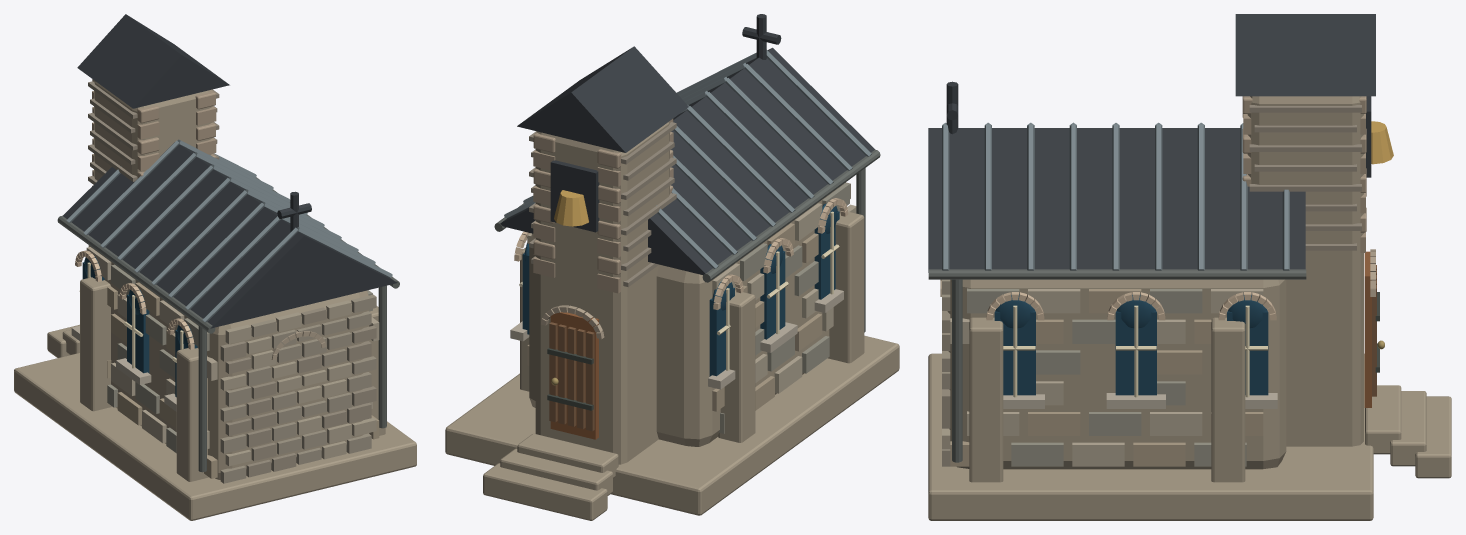
File: church_stone.glb
3 renders of one model, left to right at view 1: azimuth 30°, elevation 25°; view 2: azimuth 150°, elevation 25°; view 3: azimuth 270°, elevation 25°, orthographic. The views are drawn at different scales.
Visible parts, largest first — view 1: StoneChurch; view 2: StoneChurch; view 3: StoneChurch.
Boxes of the visible parts, <box> form: StoneChurch: <box>14,14,416,520</box>; StoneChurch: <box>445,14,899,520</box>; StoneChurch: <box>928,14,1451,520</box>.
Size of the model in its own units: 0.6288 by 0.9246 by 1.
